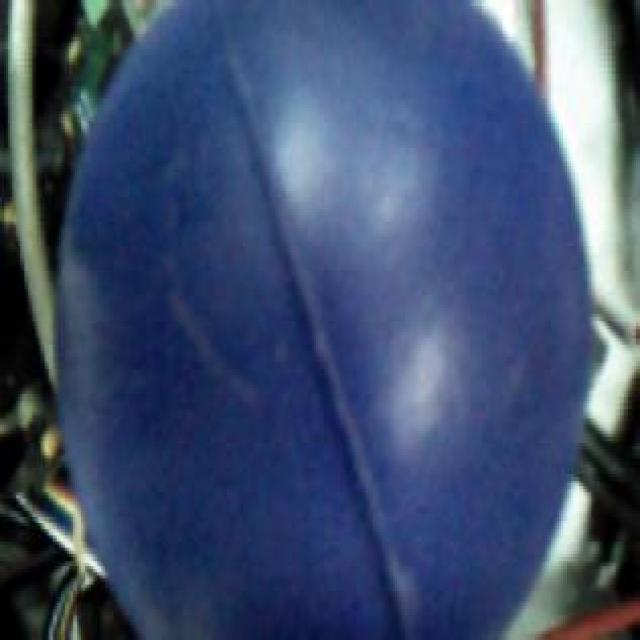BallPurple: (51, 0, 592, 640)
